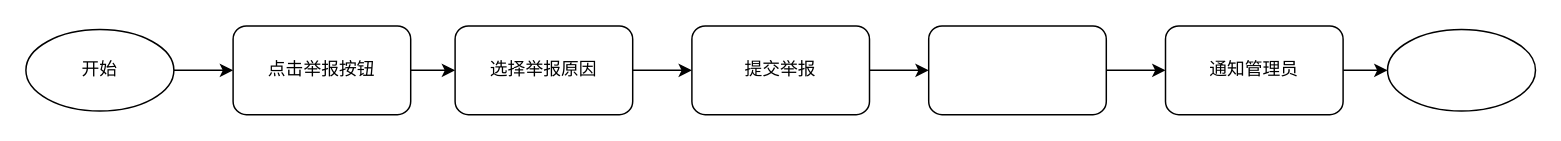
Image size: 1561x141. Some labels were removed from this diagram. The shapes that lost their labels are listed below. From the top down, each one's centre as x and y in pixels, then its label:
At (1016,69): "保存举报信息".
At (1461,69): "结束".
